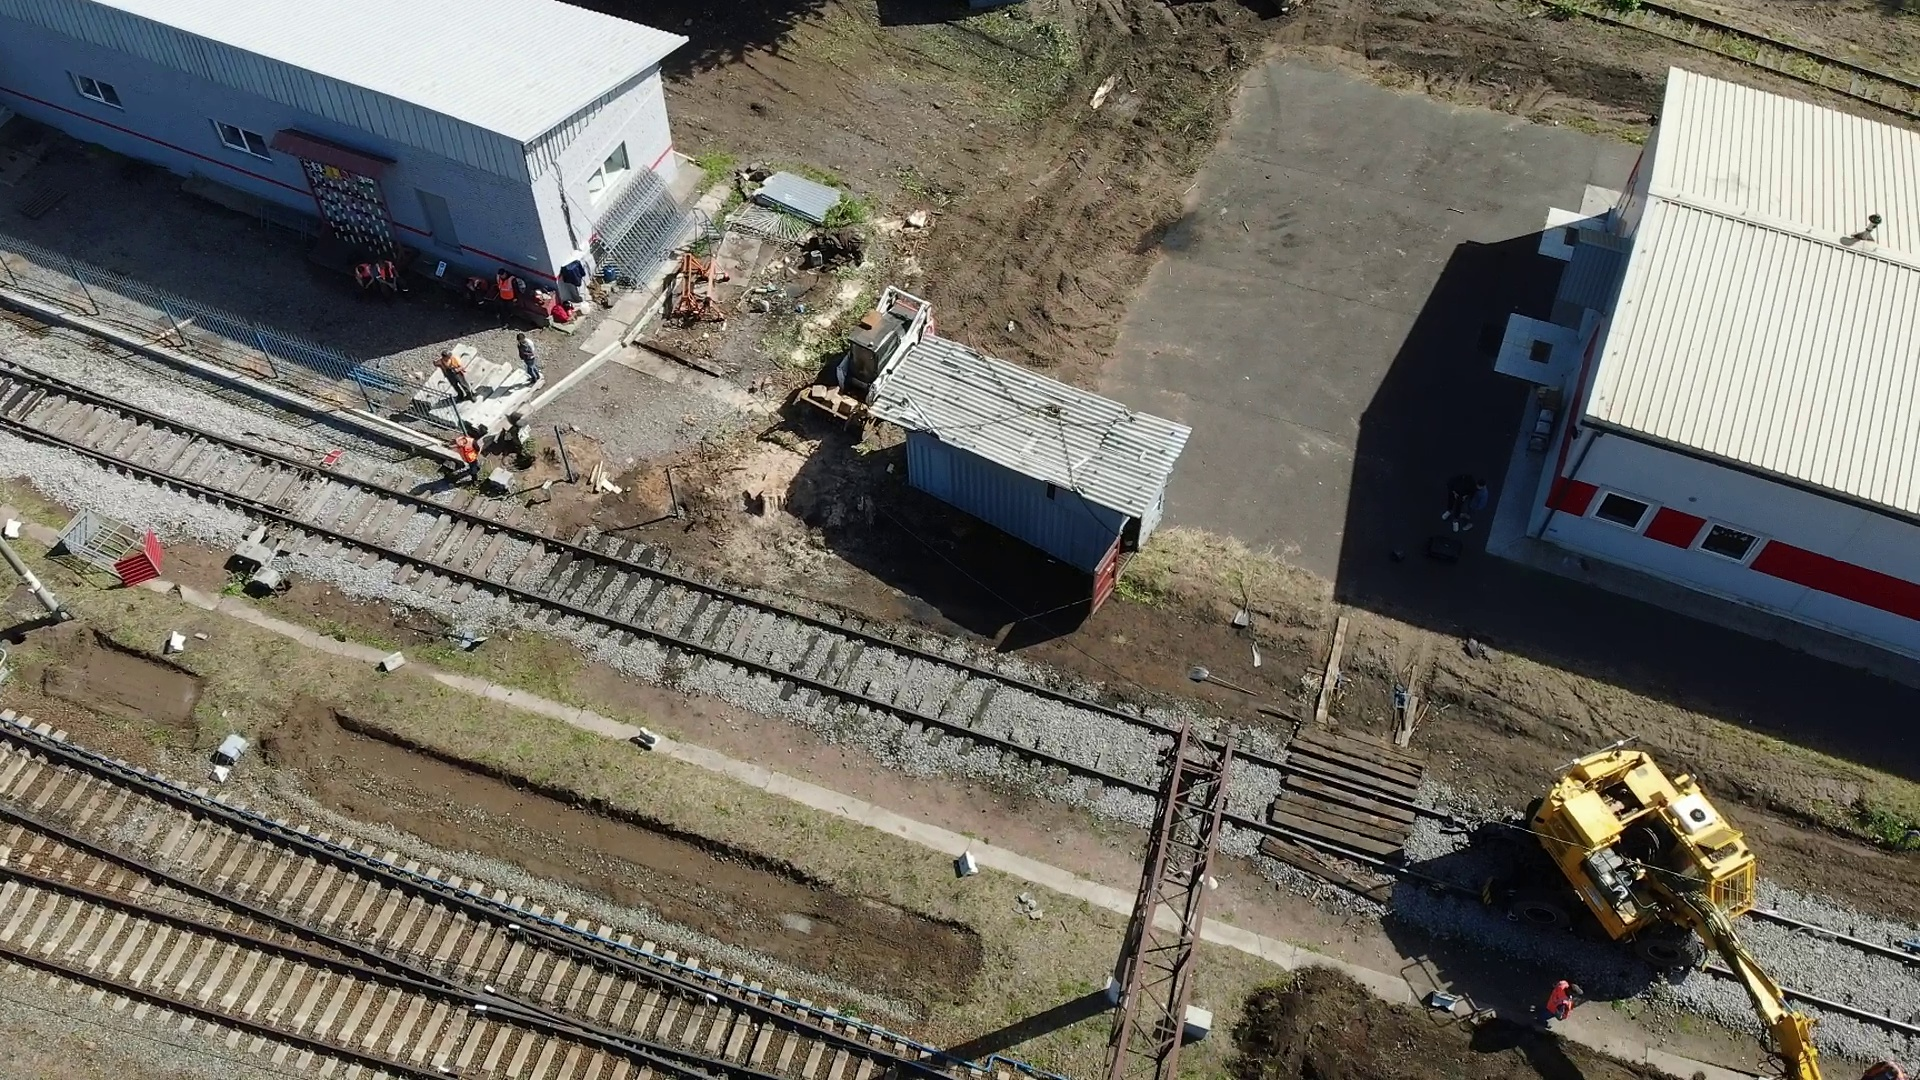kjtv: (1524, 735, 1813, 1026)
